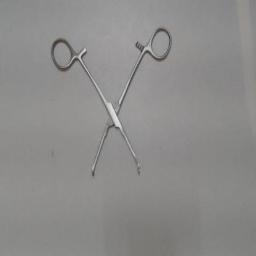Allis Tissue Forceps: (44, 20, 178, 182)
